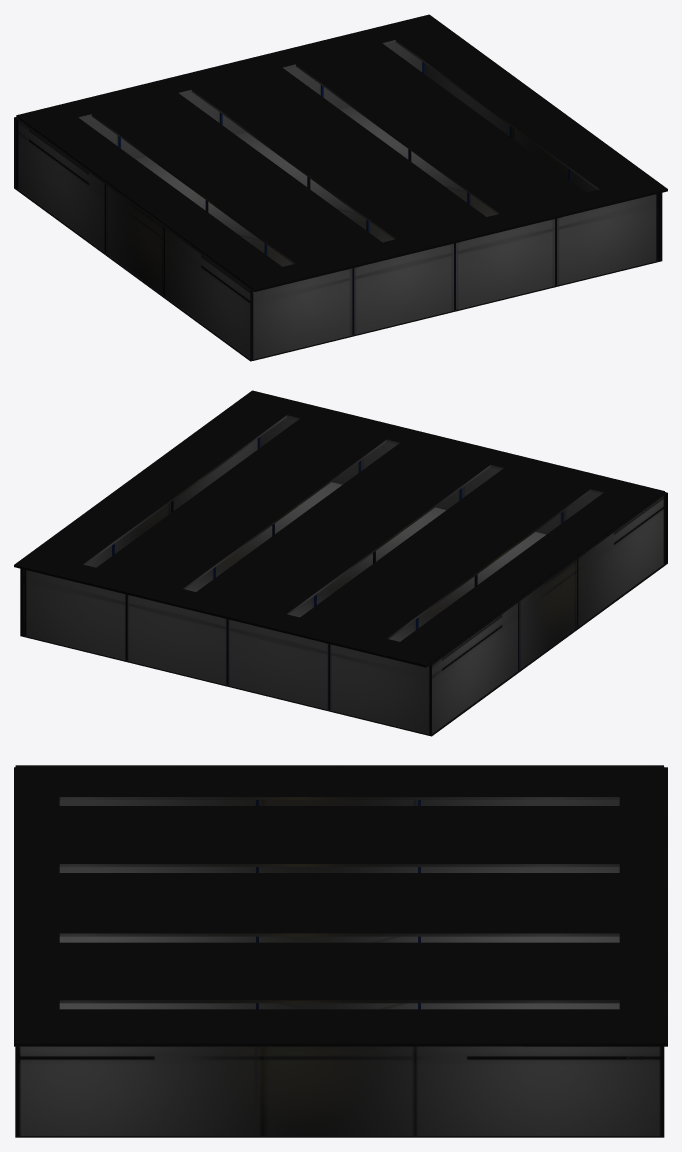
3 views of the same model, one above another, from view 1: azimuth 30°, elevation 25°; view 2: azimuth 150°, elevation 25°; view 3: azimuth 270°, elevation 25° (orthographic). The views are drawn at different scales.
Parts seen in each view (by area): view 1: Box034, Box033, Plane001, Box027; view 2: Box034, Box033, Plane001, Box027; view 3: Box034, Box033, Plane001.
Boxes of the visible parts, x1,y1,x2,y2 form: Box034: [16, 14, 667, 291]; Box033: [14, 42, 662, 361]; Plane001: [19, 107, 655, 359]; Box027: [17, 62, 658, 359]; Box034: [14, 390, 664, 667]; Box033: [20, 417, 667, 736]; Plane001: [38, 482, 663, 733]; Box027: [24, 437, 664, 733]; Box034: [14, 767, 667, 1046]; Box033: [15, 765, 664, 1137]; Plane001: [59, 867, 619, 1009].
Size of the model in its own units: 82.13 by 13.4 by 81.41.
Materials: 4 (4 with a texture image).
